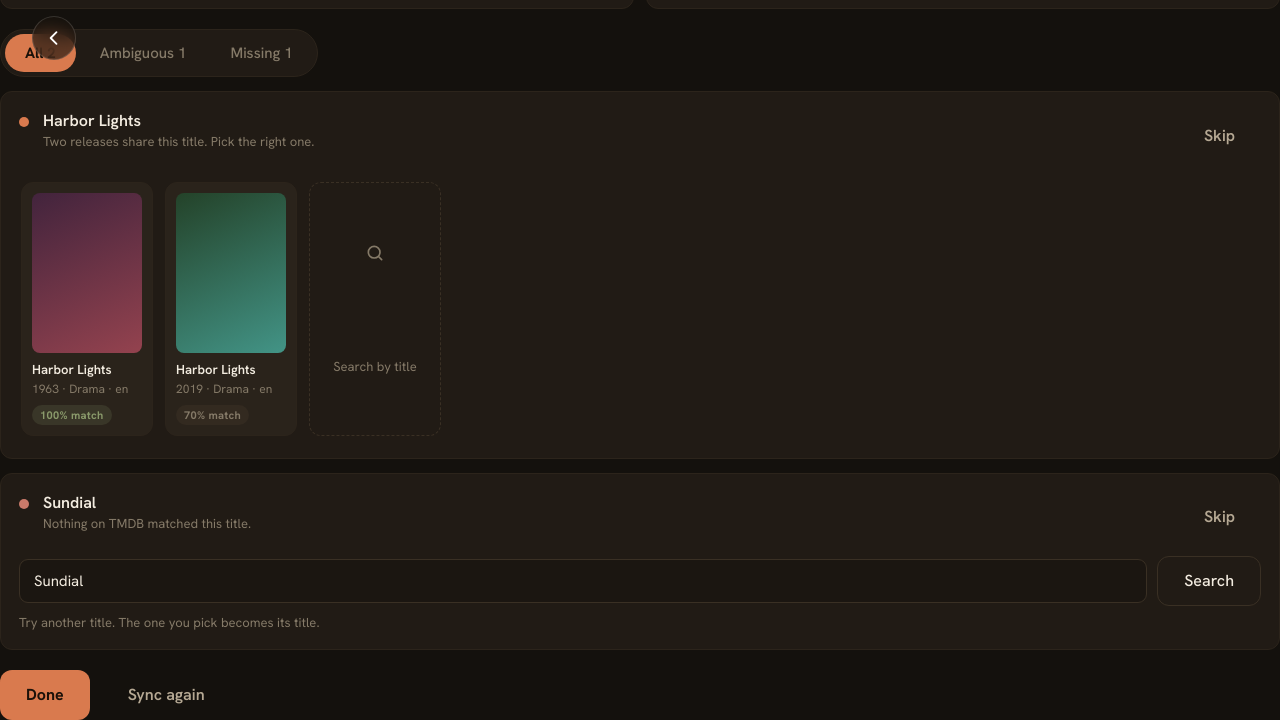
Scenario: EnrichmentFlow — searching › answers candidates in the picker
(page scrolled)
Expected: the text "Nothing on TMDB matched this title." is shown, x1=43 y1=515 x2=251 y2=532
Replace the text in the field with placeholder "Search TMDB by title and year" with "Sundial 2004" at (583, 581), box x1=19 y1=559 x2=1147 y2=603
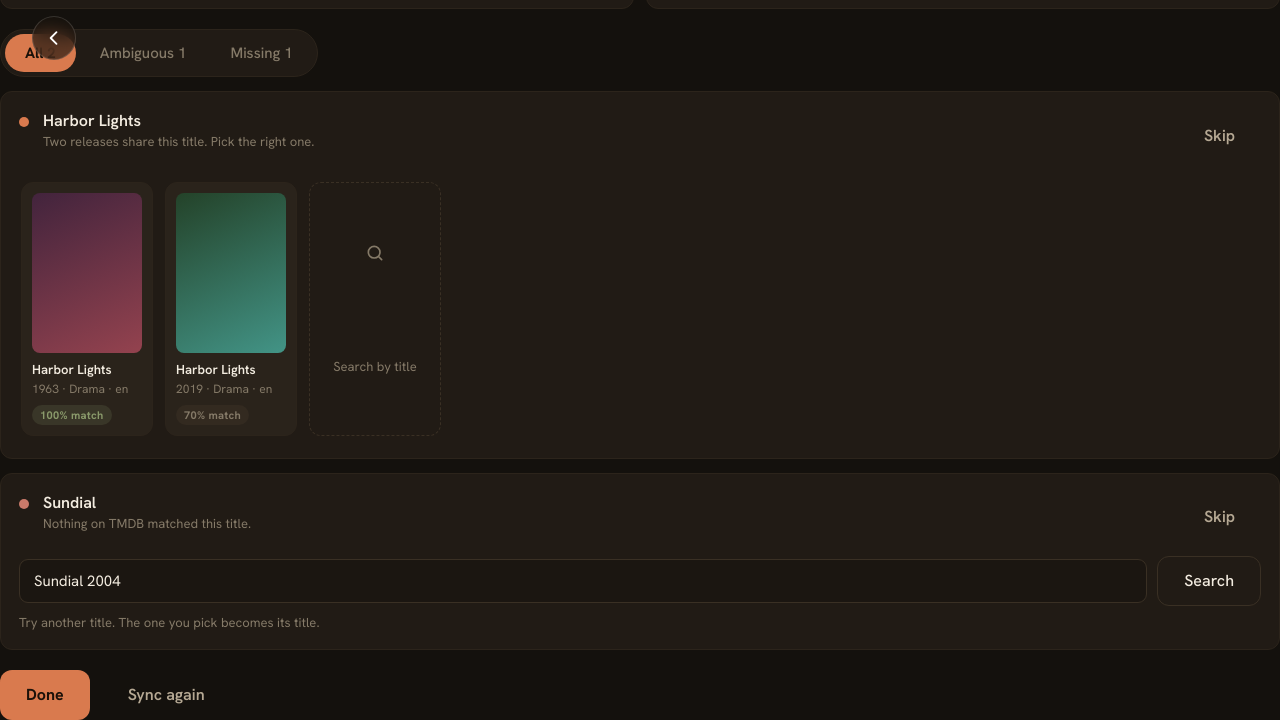
Click the button "Search" at (1209, 581), box x1=1157 y1=556 x2=1261 y2=606
(page scrolled)
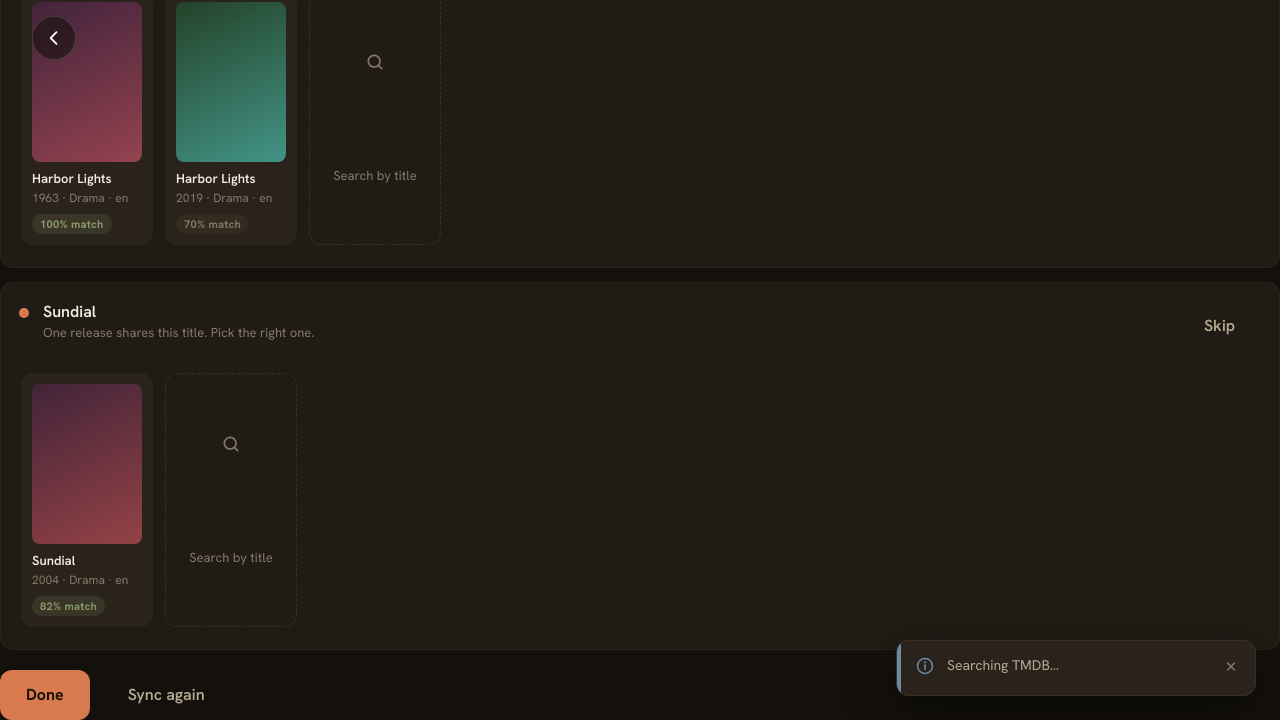
Expected: the button "Sundial 2004 · Drama · en 82% match" is shown, x1=21 y1=373 x2=153 y2=627
